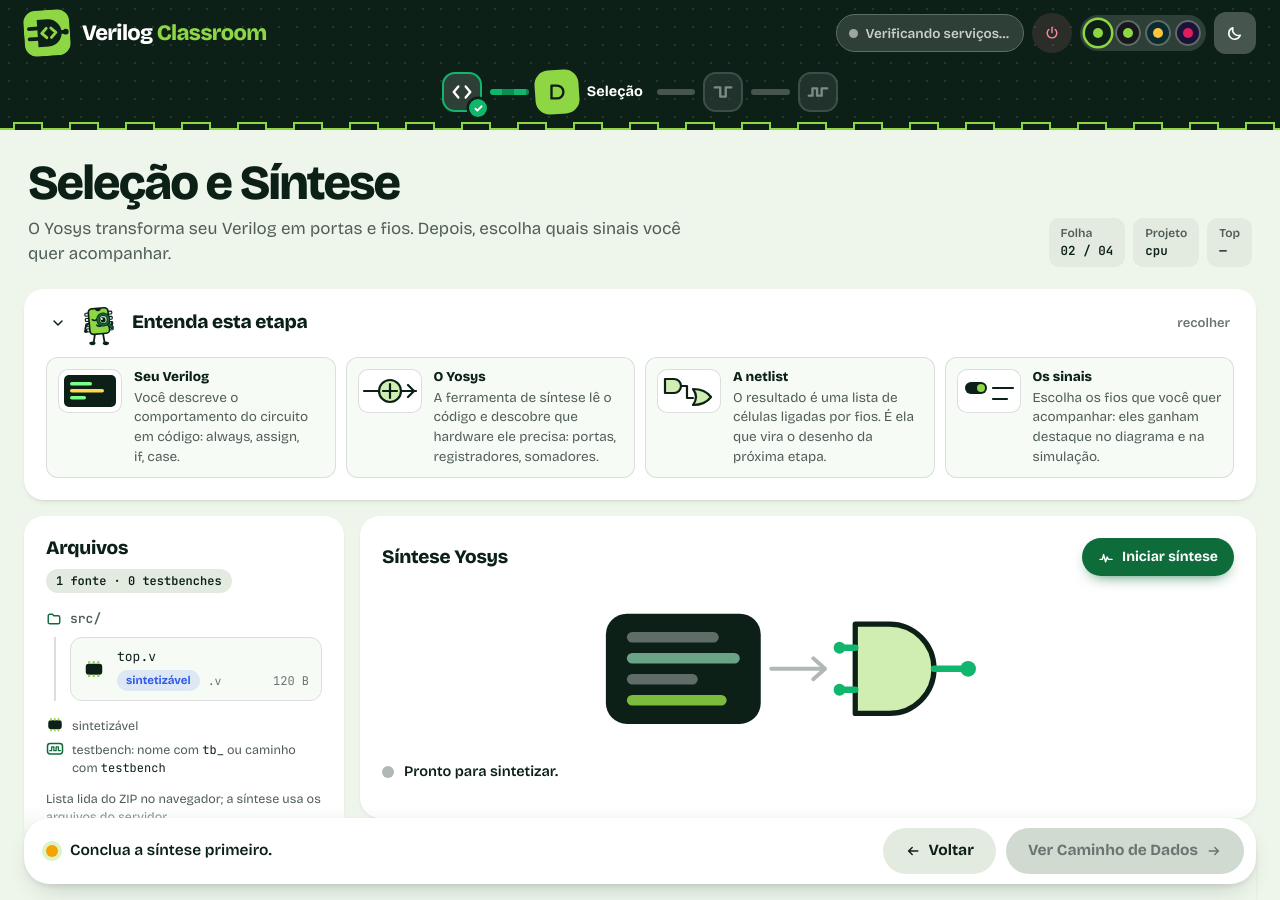
Test case: Tela 2b — módulo top (#27) › backend sem top_module: cliente não inventa um
This screenshot has width=1280, height=900.
What coordinates should you click on to do the following:
click the button "Iniciar síntese"
I would click on:
 (1158, 557)
Its box is [1082, 538, 1234, 576].
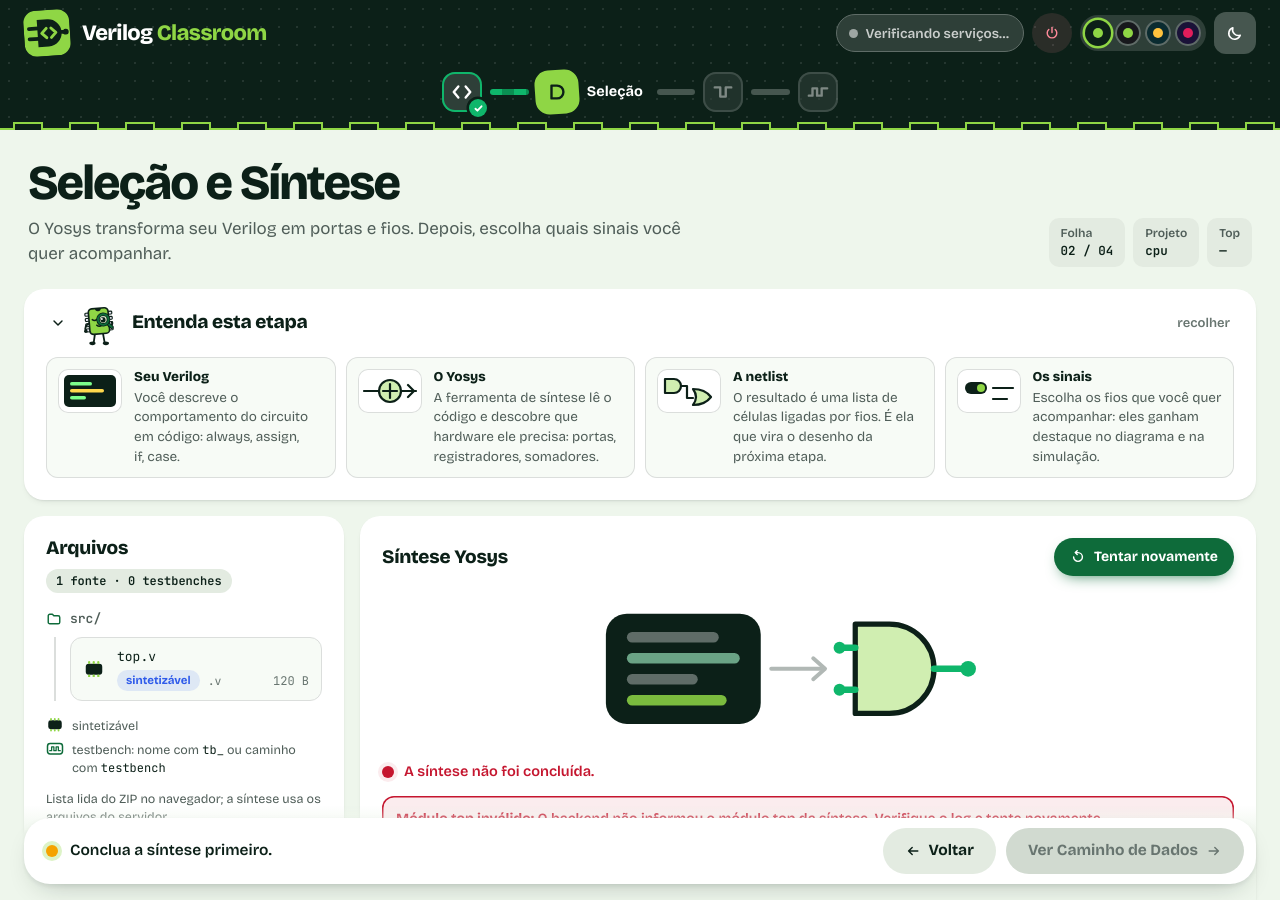
Expected: the button "Ver Caminho de Dados" is disabled, [1006, 828, 1244, 874]
Result: the message that starts with "Módulo top inválido" shows "O backend não informou o módulo top da síntese. Verifique o log e tente novamente." at [538, 810, 1104, 827]
